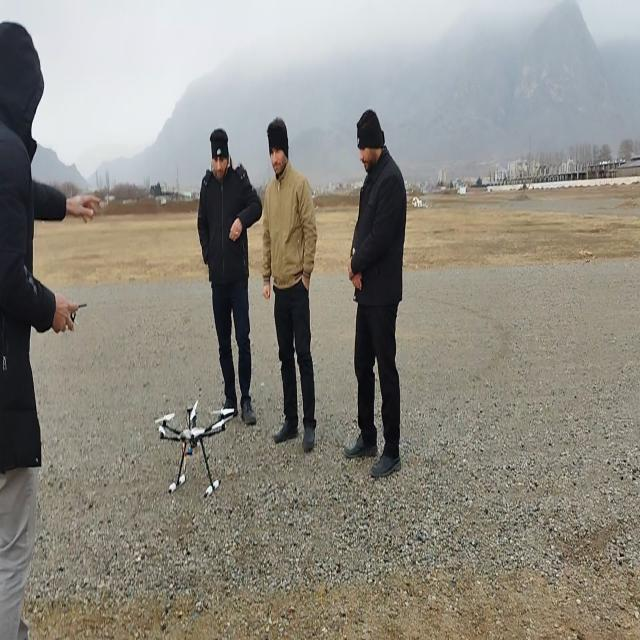drone: (156, 402, 237, 498)
